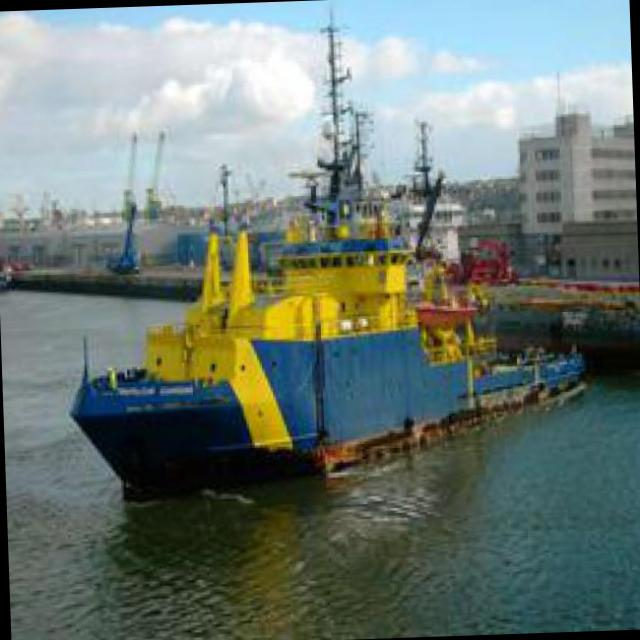boat: (54, 249, 604, 466)
